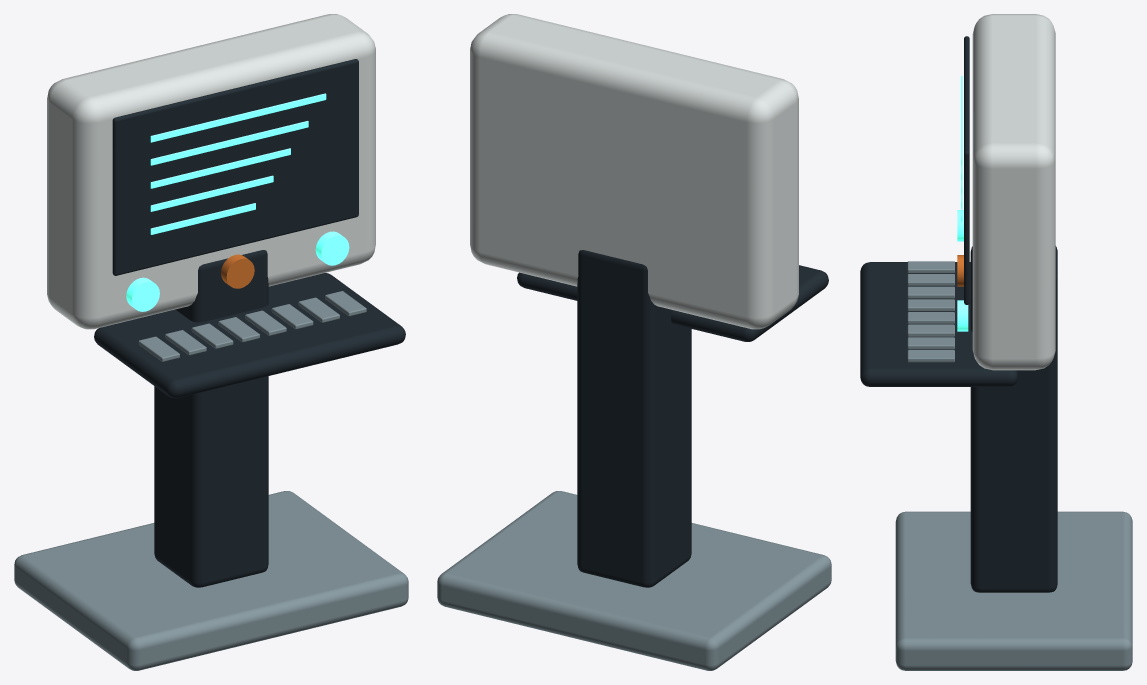
File: terminal.glb
3 renders of one model, left to right at view 1: azimuth 30°, elevation 25°; view 2: azimuth 150°, elevation 25°; view 3: azimuth 270°, elevation 25°, orthographic. The views are drawn at different scales.
Parts seen in each view (by area): view 1: dark, white, metal, light, orange; view 2: white, dark, metal; view 3: metal, dark, white, light.
Boxes of the visible parts, x1,y1,x2,y2 form: dark: [94, 59, 405, 587]; white: [47, 14, 375, 329]; metal: [14, 291, 408, 670]; light: [126, 93, 349, 311]; orange: [221, 254, 254, 288]; white: [470, 14, 798, 329]; dark: [517, 250, 828, 587]; metal: [437, 491, 831, 670]; metal: [895, 261, 1132, 670]; dark: [860, 36, 1057, 592]; white: [972, 14, 1055, 370]; light: [957, 75, 968, 331].
Size of the model in its own units: 0.86 by 1.48 by 0.69.
